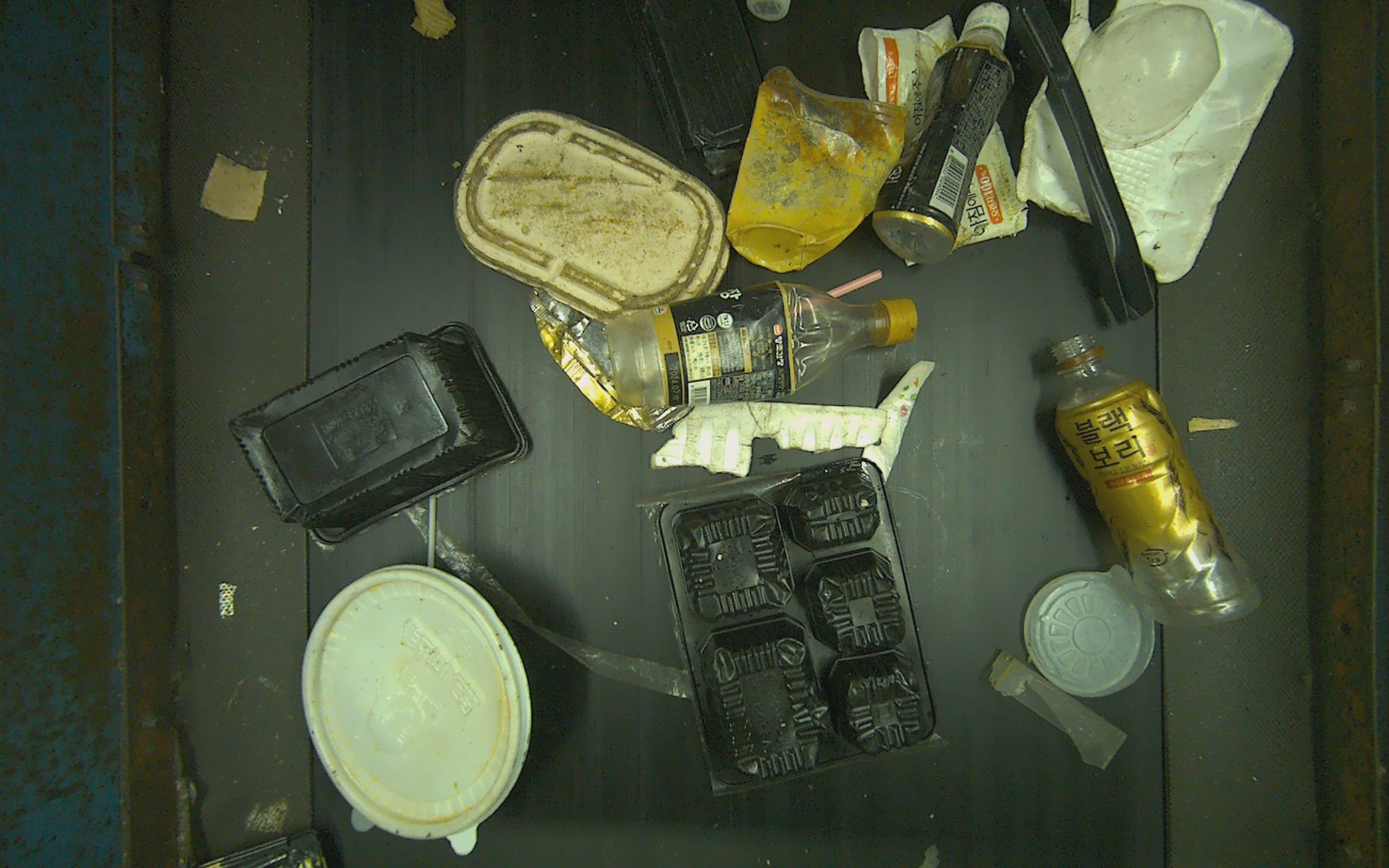PET: (1052, 333, 1260, 627), (606, 281, 917, 409), (873, 2, 1015, 264)
PET-C: (727, 66, 910, 273), (1073, 4, 1220, 149)
PP-B: (659, 458, 936, 784), (229, 322, 528, 545)
